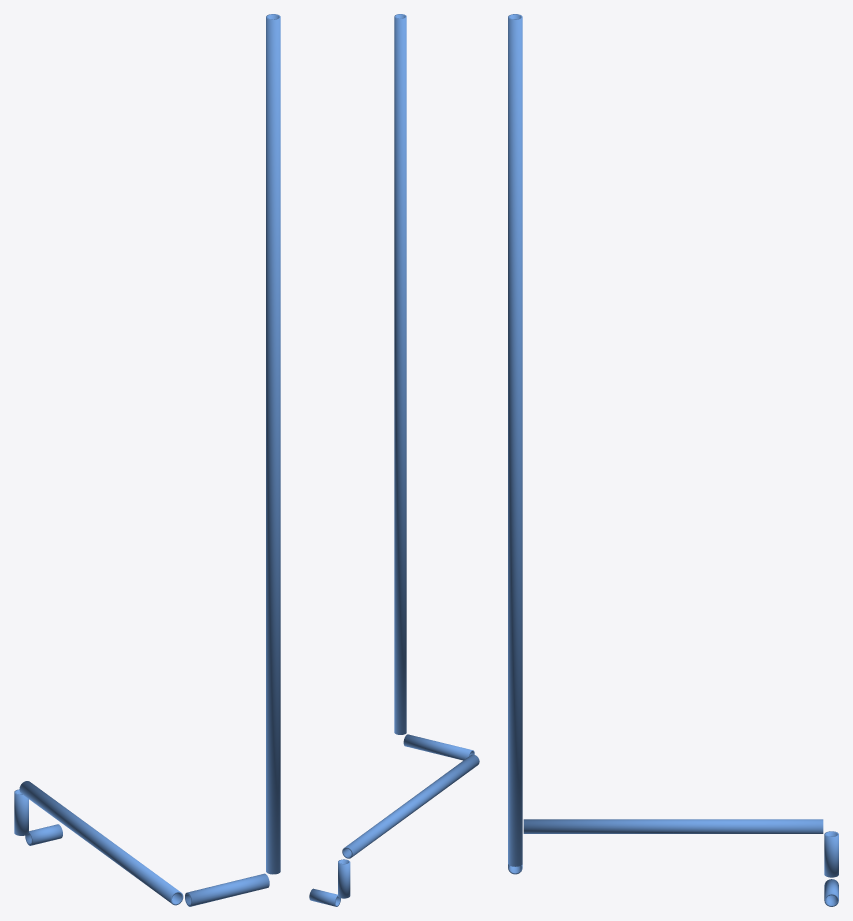
Rendered from slab_pipes_supply__softener-yes_and_plumbing-pex+attic_repipe+pex_branch__r4t.glb.
3 views of the same model, side by side, from view 1: azimuth 30°, elevation 25°; view 2: azimuth 150°, elevation 25°; view 3: azimuth 270°, elevation 25° (orthographic). The views are drawn at different scales.
Parts seen in each view (by area): view 1: pipe_supply_softener_feed__pex; view 2: pipe_supply_softener_feed__pex; view 3: pipe_supply_softener_feed__pex.
Boxes of the visible parts, x1,y1,x2,y2 form: pipe_supply_softener_feed__pex: (14, 14, 280, 906); pipe_supply_softener_feed__pex: (309, 14, 479, 906); pipe_supply_softener_feed__pex: (508, 14, 838, 906).
Bounding box in the file's own units: 0.1821 × 1.53 × 0.5022.
